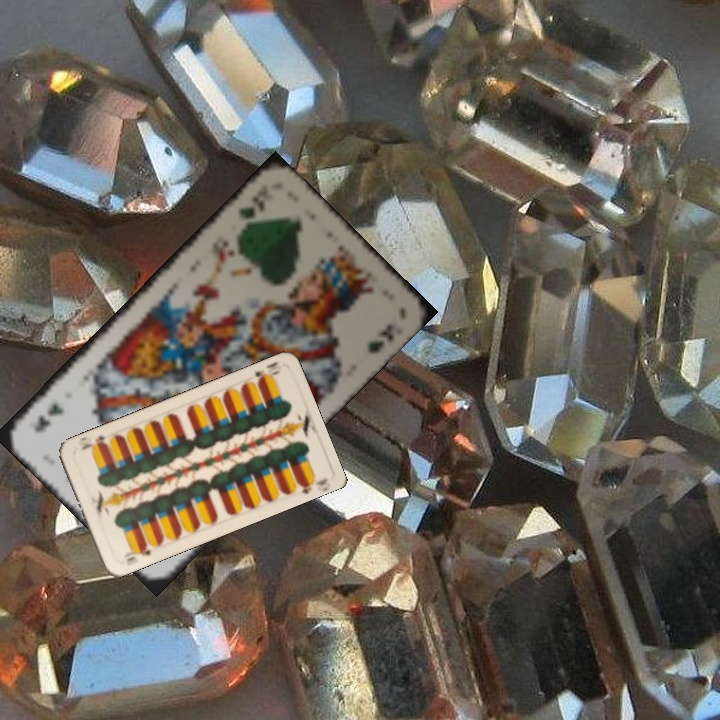E10: (251, 357, 282, 387), (120, 540, 153, 564)
GK: (233, 202, 259, 234)
